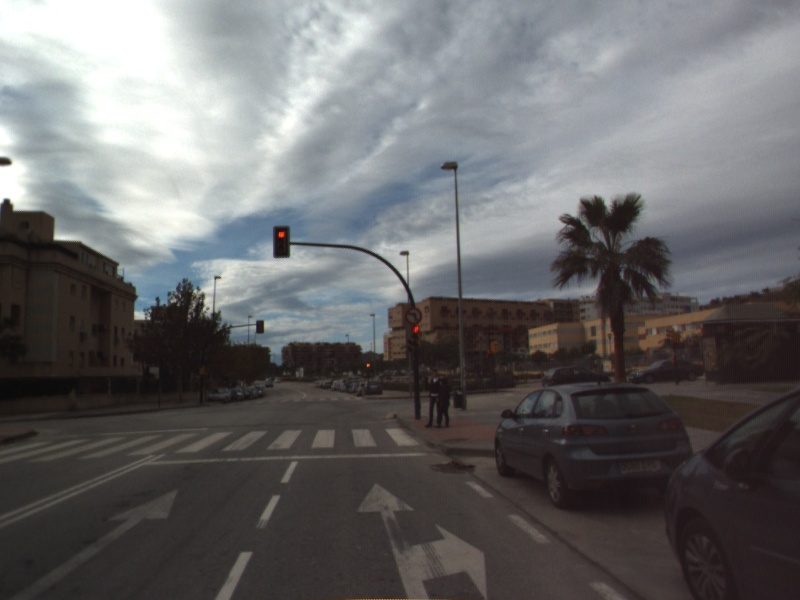STRAIGHT: (5, 487, 180, 600)
STRAIGHT_RIGHT: (354, 480, 489, 600)
